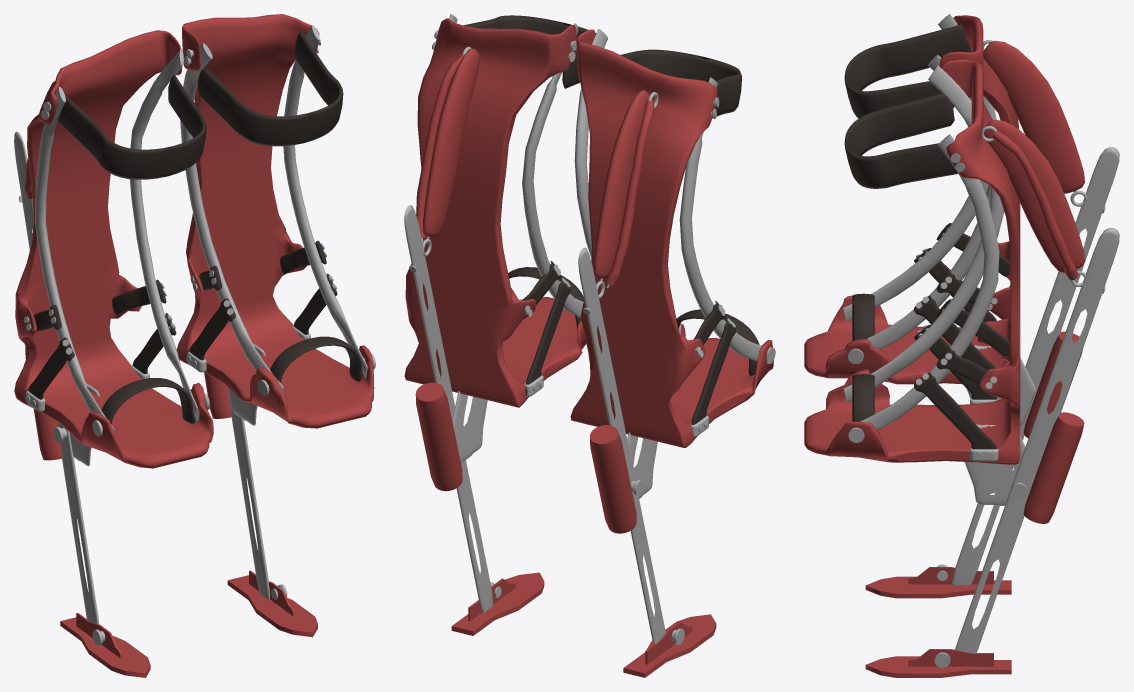
File: astronautaParBotas.fbx
The picture shows the model from 3 angles, left to right: view 1: azimuth 30°, elevation 25°; view 2: azimuth 150°, elevation 25°; view 3: azimuth 270°, elevation 25°; orthographic projection. The views are drawn at different scales.
Parts seen in each view (by area): view 1: pCube1 (×2), pCube13 (×2), pCylinder3 (×2), pCylinder1 (×2), pCube10 (×2), pCube11 (×2), pCube8 (×2), pCylinder23 (×2), pCube2 (×2), pCube5 (×2), pCube4, pCube7 (+2 smaller); view 2: pCube1 (×2), pCube10 (×2), pCylinder24 (×2), pCylinder23 (×2), pCylinder3 (×2), pCube13 (×2), pCube11 (×2), pCylinder27 (×2), pCylinder1, pCube9 (×2), pCube8 (×2), pCube5 (+3 smaller); view 3: pCube1 (×2), pCube10 (×2), pCube13 (×2), pCylinder24 (×2), pCylinder1 (×2), pCylinder3 (×2), pCylinder23 (×2), pCube11 (×2), pCube9 (×2), pCube2 (×2), pCube8 (×2), pCube12 (×2) (+4 smaller).
Part boxes in pixels (box(x1,y1,x2,y2)): pCube1 (×2): box(14, 14, 374, 468); pCube13 (×2): box(57, 30, 343, 179); pCylinder3 (×2): box(130, 43, 283, 421); pCylinder1 (×2): box(35, 25, 368, 431); pCube10 (×2): box(14, 131, 269, 623); pCube11 (×2): box(60, 575, 317, 677); pCube8 (×2): box(101, 336, 362, 423); pCylinder23 (×2): box(25, 346, 231, 460); pCube2 (×2): box(28, 273, 337, 399); pCube5 (×2): box(132, 298, 235, 373); pCube4: box(112, 279, 166, 314); pCube7: box(280, 240, 326, 273); pCube1 (×2): box(404, 18, 773, 447); pCube10 (×2): box(404, 205, 665, 644); pCylinder24 (×2): box(423, 48, 649, 278); pCylinder23 (×2): box(415, 382, 636, 533); pCylinder3 (×2): box(522, 23, 681, 334); pCube13 (×2): box(464, 15, 741, 118); pCube11 (×2): box(451, 572, 716, 677); pCylinder27 (×2): box(416, 54, 654, 285); pCylinder1: box(679, 77, 761, 361); pCube9 (×2): box(452, 391, 657, 498); pCube8 (×2): box(508, 267, 759, 376); pCube5: box(525, 278, 570, 395); pCube1 (×2): box(804, 15, 1020, 464); pCube10 (×2): box(952, 147, 1119, 653); pCube13 (×2): box(844, 24, 971, 188); pCylinder24 (×2): box(983, 40, 1084, 272); pCylinder1 (×2): box(843, 14, 999, 430); pCylinder3 (×2): box(843, 54, 1004, 402); pCylinder23 (×2): box(1023, 331, 1084, 523); pCube11 (×2): box(865, 576, 1011, 677); pCube9 (×2): box(955, 345, 1035, 505); pCube2 (×2): box(914, 248, 997, 449); pCube8 (×2): box(852, 293, 874, 421); pCube12 (×2): box(908, 567, 993, 666).
Size of the model in its own units: 1.14 by 2.33 by 1.15.
